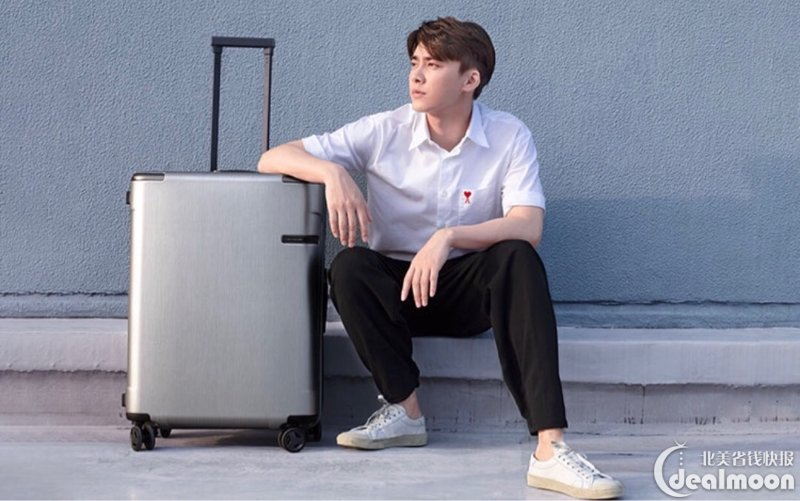box: (127, 170, 324, 429)
wheel: (277, 427, 306, 453), (130, 424, 156, 452)
